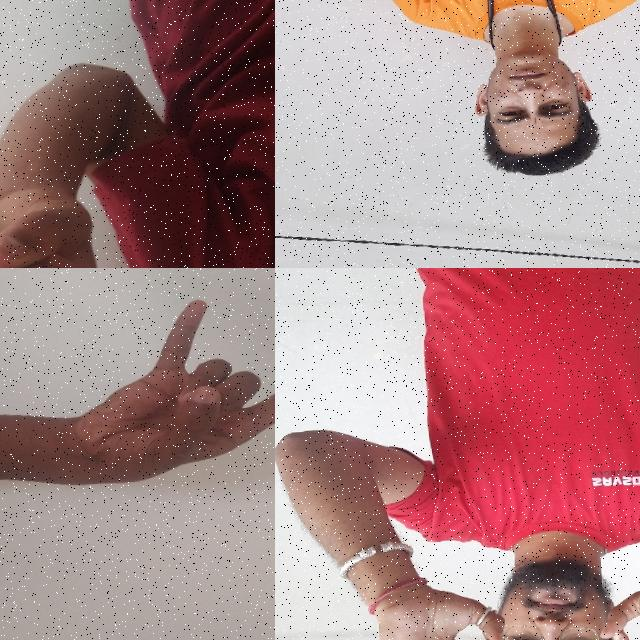Corna: (21, 287, 275, 487), (0, 174, 171, 268)
Okay: (368, 567, 516, 640)
